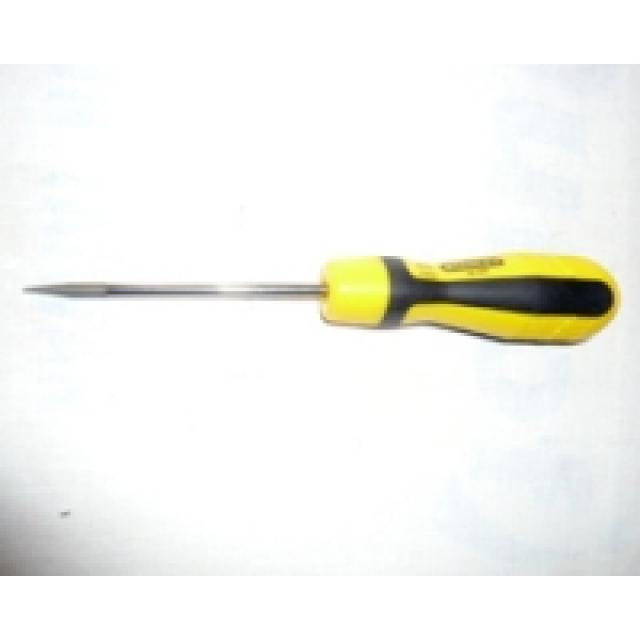screwdriver: (14, 232, 620, 348)
